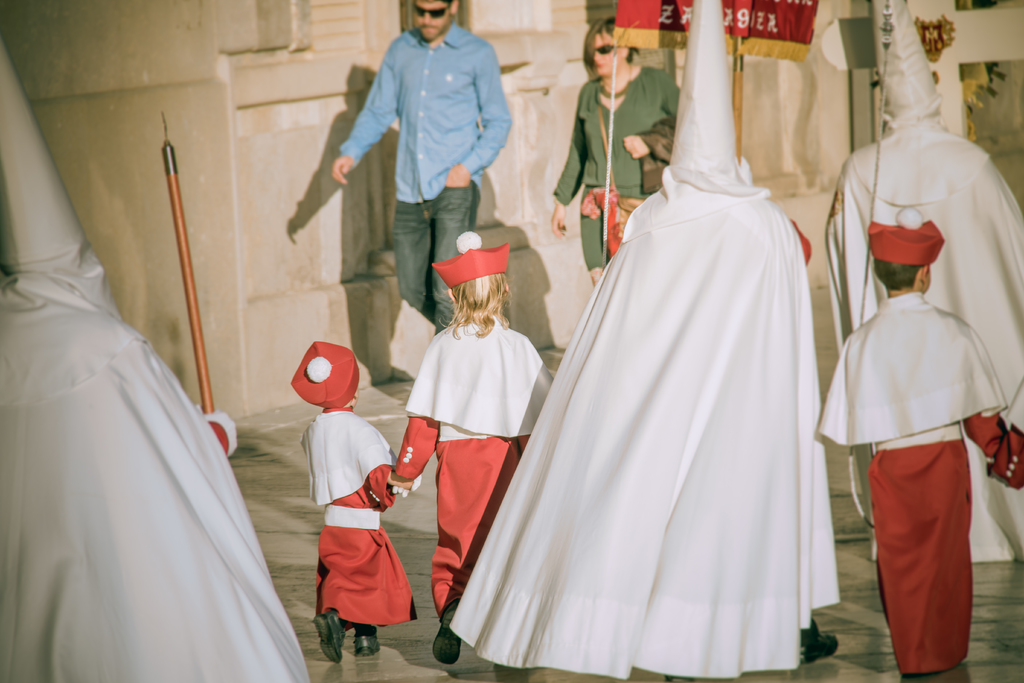Person: (448, 147, 839, 677), (827, 0, 1023, 559), (816, 213, 1021, 678), (392, 251, 562, 671), (332, 0, 524, 335), (299, 337, 420, 658)
